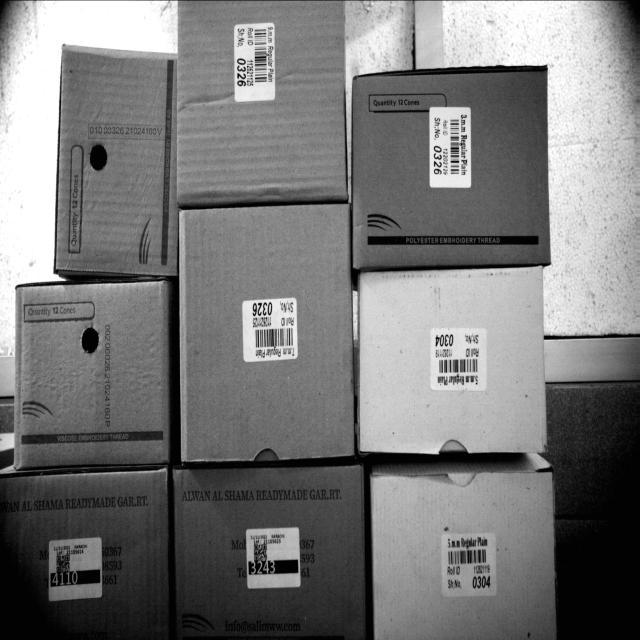box: (178, 208, 353, 456), (354, 64, 550, 266), (361, 268, 547, 452), (176, 461, 366, 639), (177, 0, 346, 198), (378, 470, 552, 640), (14, 282, 168, 473), (18, 282, 170, 470), (0, 472, 168, 639), (53, 46, 175, 265)
